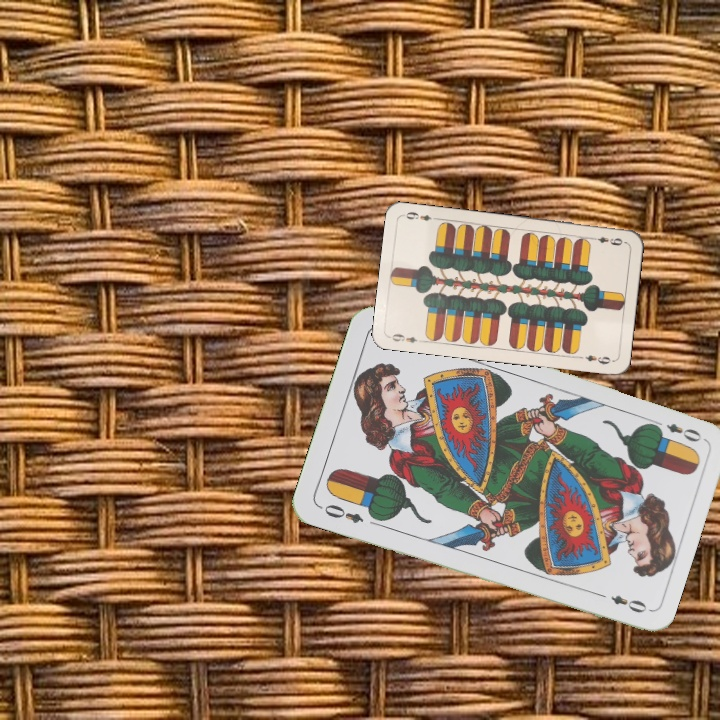E9: (386, 329, 426, 346), (587, 233, 628, 248)
EO: (648, 417, 704, 445), (320, 500, 366, 526)
